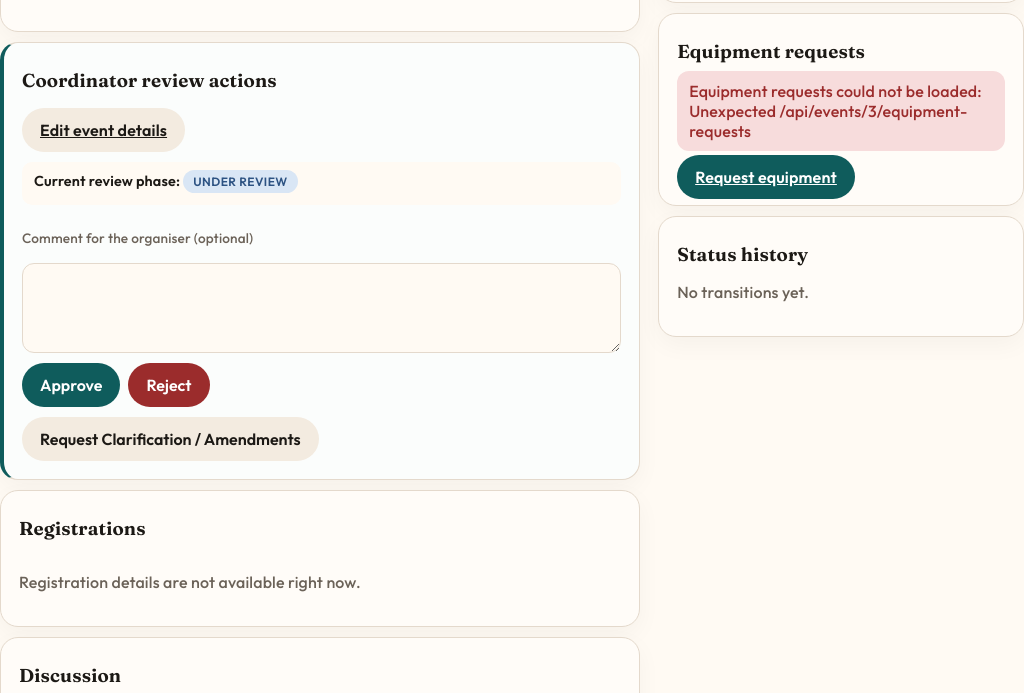
Test: EventDetail SCRUM-17 & Base tests › US17-F15: a decision refused by the server shows the error to the coordinator
(page scrolled)
Click the button "Approve".
click(71, 385)  # box [22, 363, 120, 407]
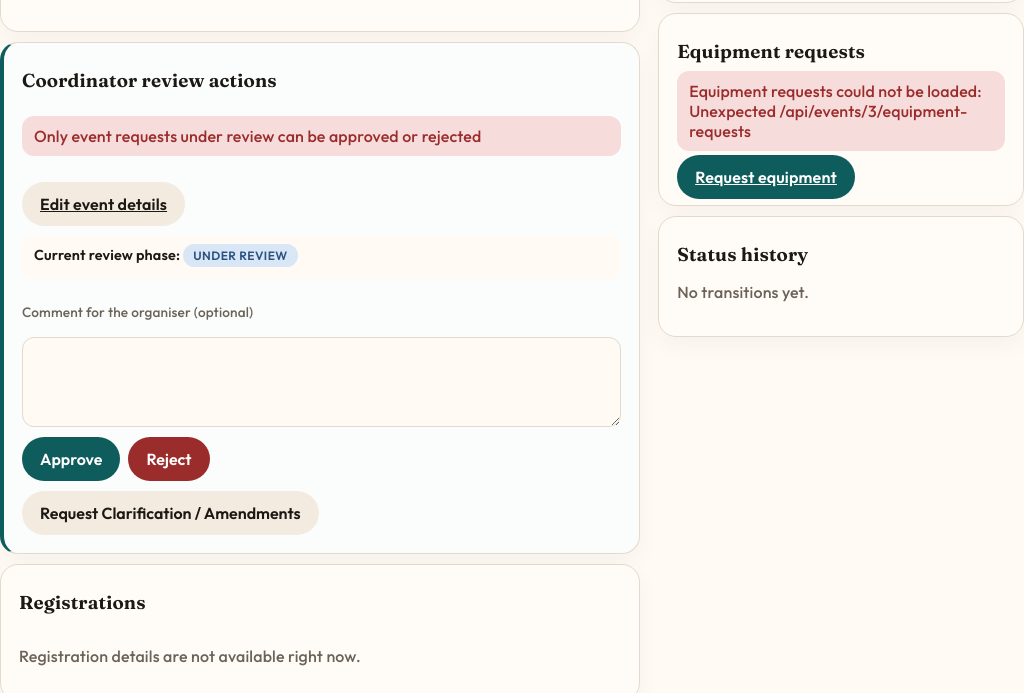
Expected: the text "Only event requests under review can be approved or rejected" is shown, [22, 116, 621, 156]
